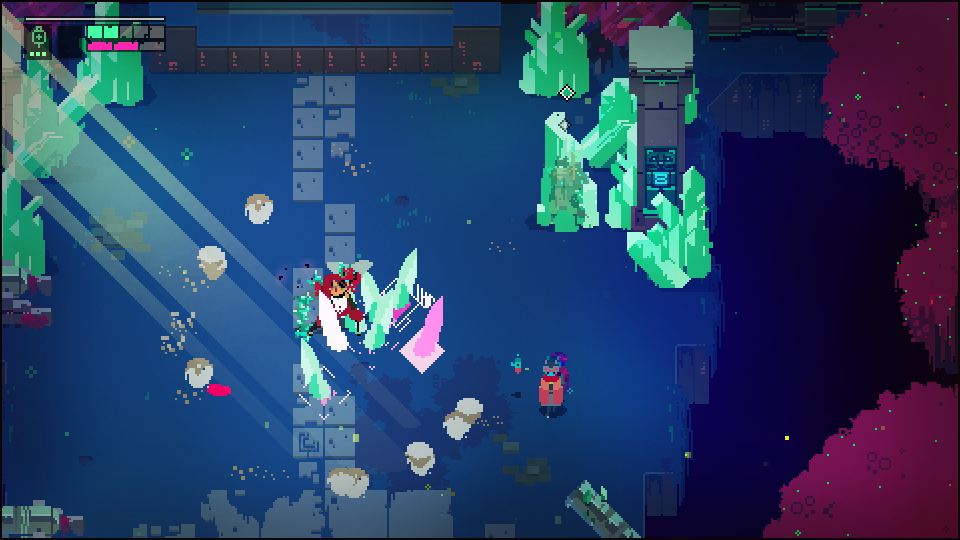hanged_crys: (414, 294, 449, 357), (301, 338, 334, 399), (363, 290, 394, 352), (394, 245, 416, 307)
hanged_man: (290, 261, 372, 333)
player: (535, 360, 563, 412)
